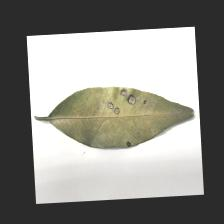canker: (101, 86, 150, 153)
